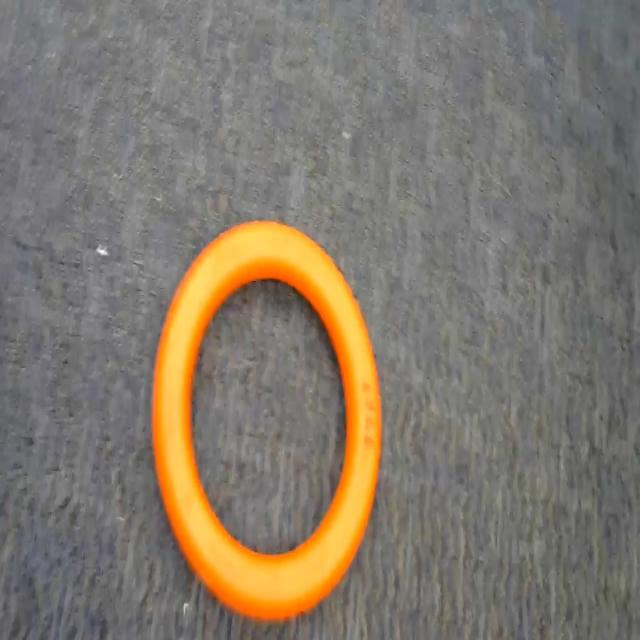note: (136, 222, 406, 622)
